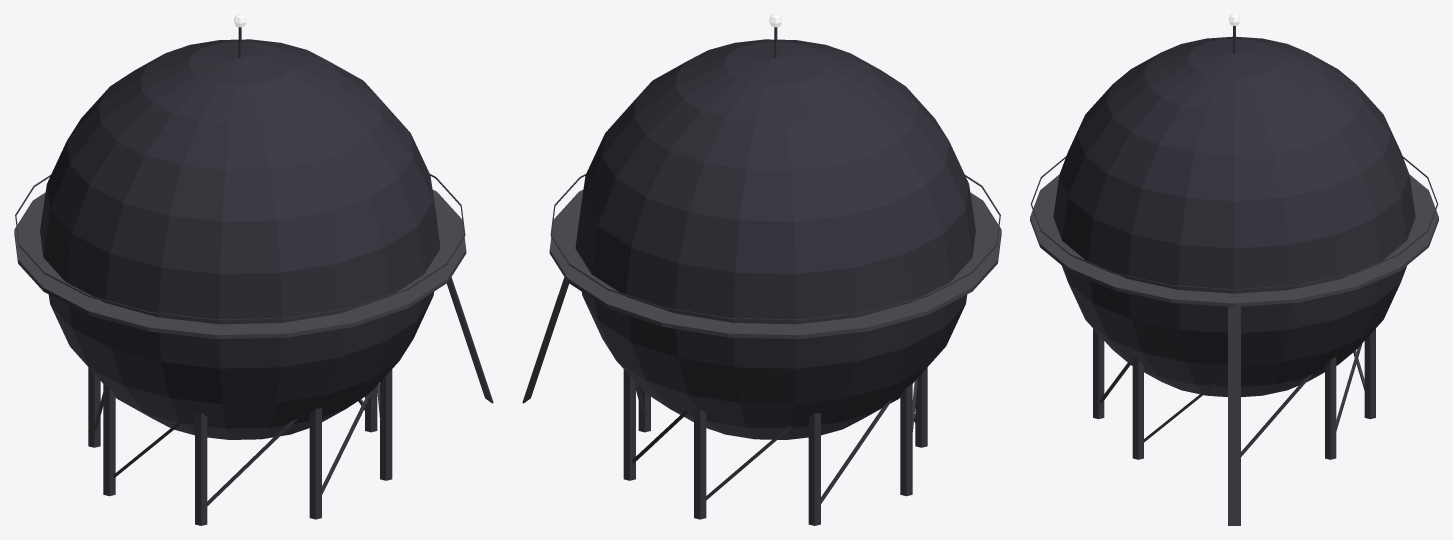
The model's file is cond_sphere_tank.glb.
3 renders of one model, left to right at view 1: azimuth 30°, elevation 25°; view 2: azimuth 150°, elevation 25°; view 3: azimuth 270°, elevation 25°, orthographic. The views are drawn at different scales.
Visible parts, largest first — view 1: cond_sphere_tank; view 2: cond_sphere_tank; view 3: cond_sphere_tank.
Part boxes in pixels (x1=…): cond_sphere_tank: x1=14, y1=14, x2=493, y2=525; cond_sphere_tank: x1=522, y1=14, x2=1001, y2=525; cond_sphere_tank: x1=1030, y1=14, x2=1438, y2=525.
Size of the model in its own units: 35.86 by 34.32 by 31.6.
4 materials, 1 textured.
